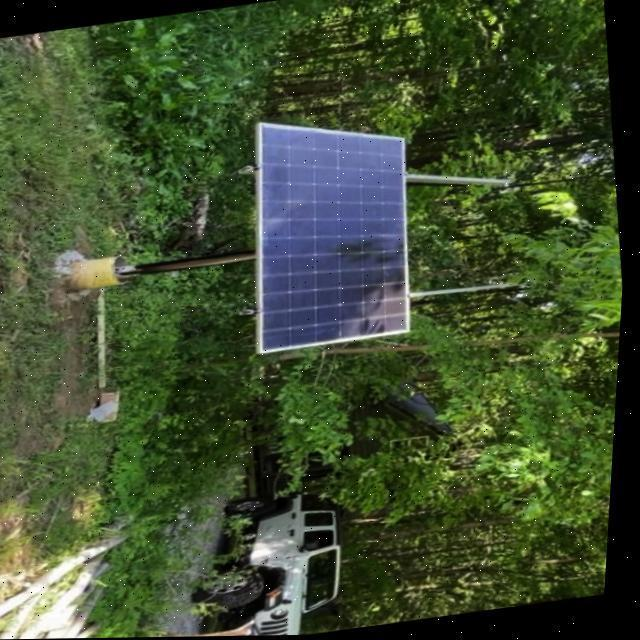Normal Solar Panel: (234, 102, 432, 352)
